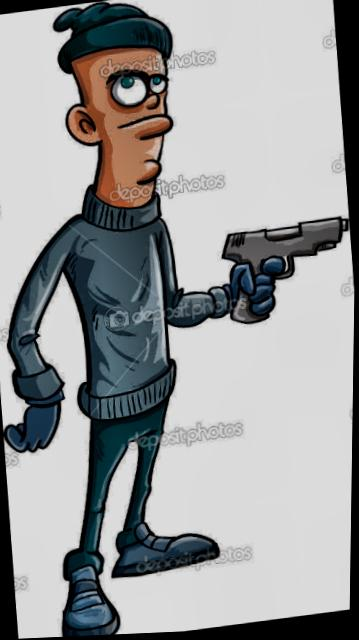pistol: (214, 212, 356, 331)
